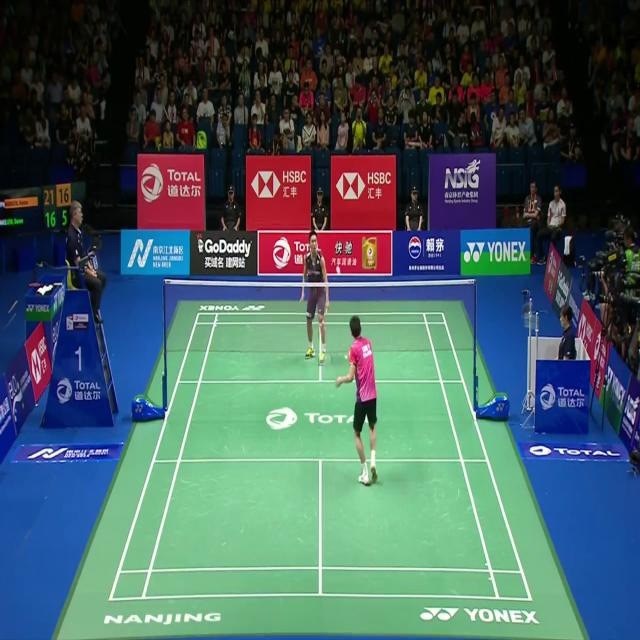Shuttlecock: (335, 262, 342, 273)
